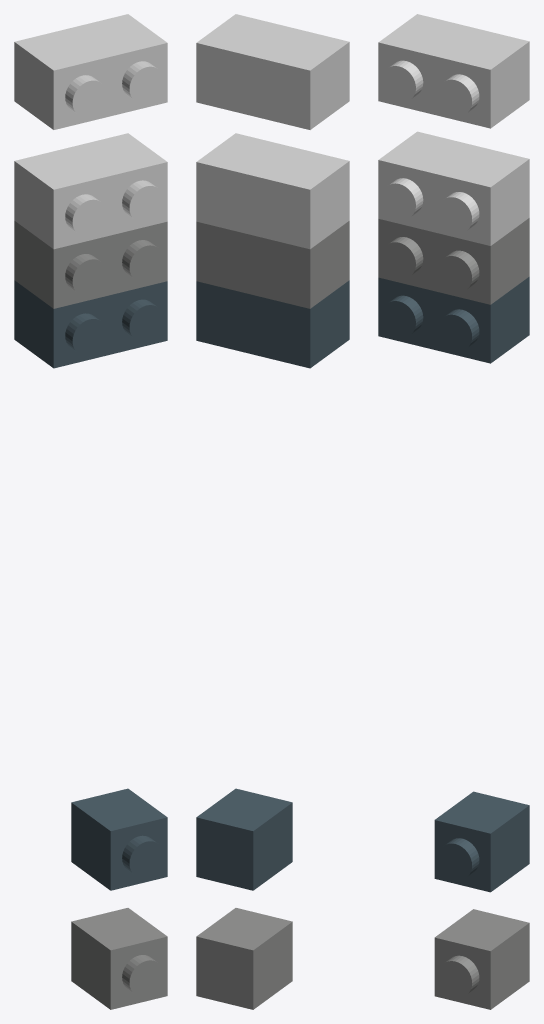
The model's file is current.glb.
The picture shows the model from 3 angles, left to right: view 1: azimuth 30°, elevation 25°; view 2: azimuth 150°, elevation 25°; view 3: azimuth 330°, elevation 25°; orthographic projection.
Visible parts, largest first — view 1: world; view 2: world; view 3: world.
Part boxes in pixels (x1=…): world: x1=14, y1=14, x2=167, y2=1009; world: x1=196, y1=14, x2=349, y2=1009; world: x1=378, y1=14, x2=529, y2=1009.
Size of the model in its own units: 16 by 128 by 11.4.
